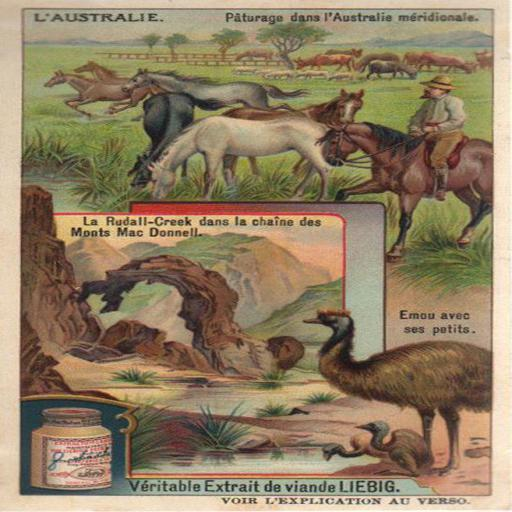horse: (314, 120, 494, 262), (145, 116, 332, 202), (215, 88, 365, 180), (118, 66, 314, 111), (128, 90, 198, 186), (38, 66, 134, 117), (70, 57, 129, 83)
